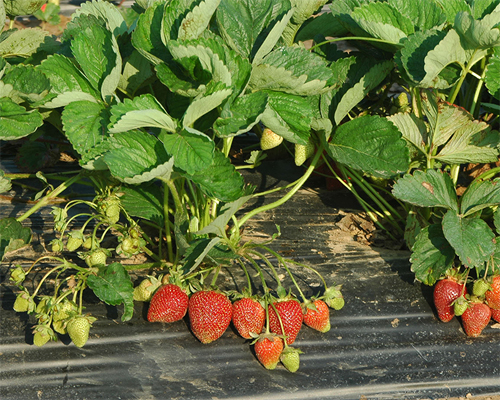ripe: (189, 288, 231, 344), (146, 281, 188, 323), (267, 298, 304, 344), (232, 295, 267, 340), (433, 274, 464, 324), (251, 332, 284, 370), (459, 301, 488, 340), (487, 269, 499, 328)
unripe: (301, 294, 333, 334), (98, 193, 125, 229), (65, 314, 91, 349), (291, 133, 317, 167), (132, 275, 164, 301), (115, 237, 144, 259), (278, 345, 300, 374), (259, 129, 284, 154), (322, 284, 345, 310), (12, 291, 34, 314), (32, 323, 53, 346), (85, 247, 107, 268), (472, 277, 491, 298), (66, 231, 84, 253), (452, 294, 470, 315), (9, 267, 26, 283), (49, 237, 62, 253)
